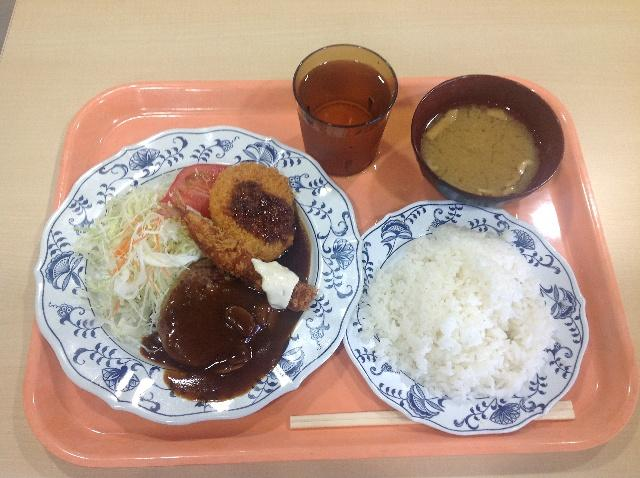plate: (342, 201, 588, 434)
rice: (361, 224, 556, 402)
